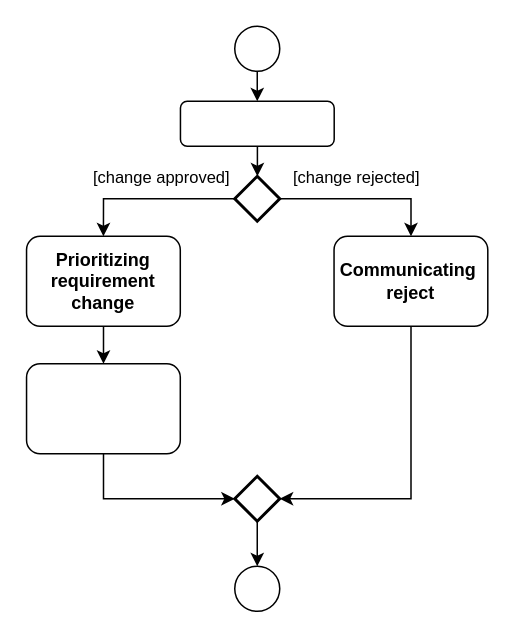
This 515x638 diagram has some shape labels left out. The shapes that lost their labels are listed below. From the top down, each one's centre as x and y in pixels, then its label:
At (x=256, y=123): "Impact Analysis".
At (x=102, y=408): "Assigning change to a change project".
